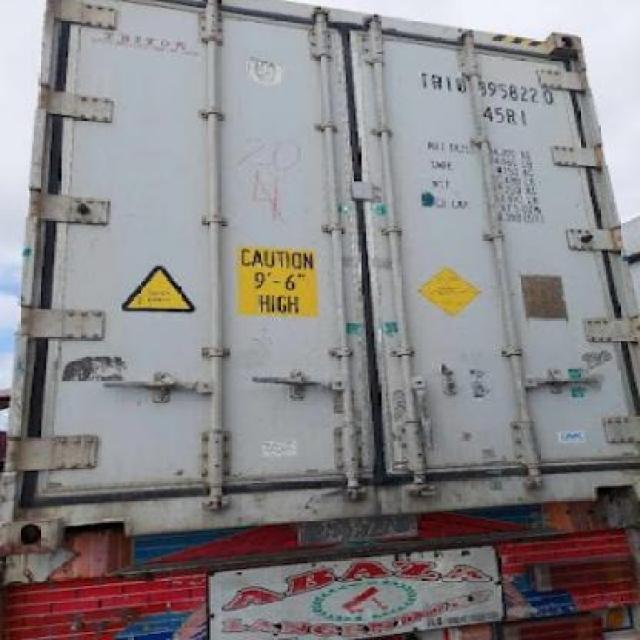ISO: (484, 102, 528, 126)
container_number: (424, 72, 554, 105)
